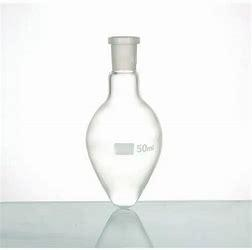Pear shaped flask: (82, 27, 161, 211)
